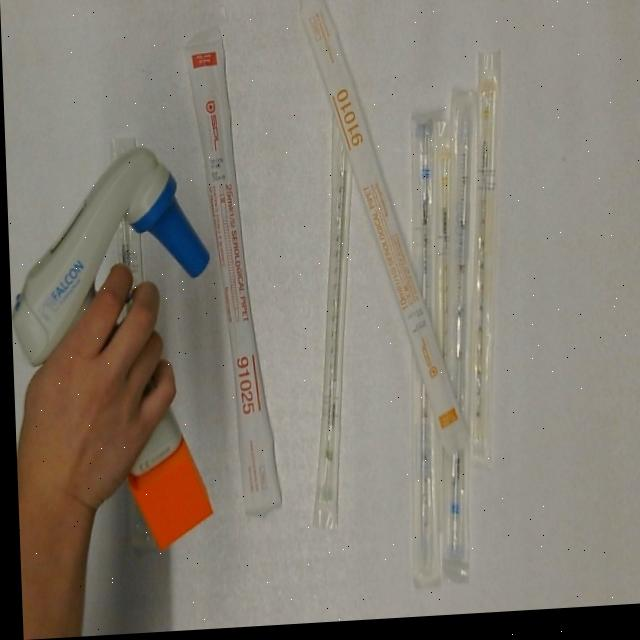Pipette Controller: (4, 140, 227, 562)
Serelogical Pipet 1 mL: (452, 52, 516, 470), (422, 124, 461, 373)
Serelogical Pipet 10 mL: (294, 0, 469, 471)
Serelogical Pipet 2 mL: (295, 117, 366, 539)
Serelogical Pipet 25 mL: (182, 24, 281, 529)
Serelogical Pipet 5 mL: (425, 95, 492, 570), (390, 116, 452, 594)
